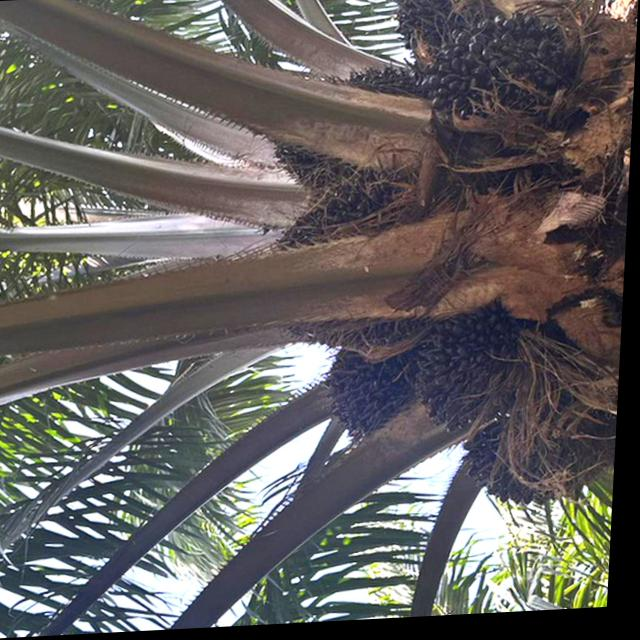unripe: (252, 190, 451, 368), (419, 20, 587, 175), (261, 63, 427, 197), (412, 321, 544, 438), (309, 348, 422, 462), (459, 420, 567, 518), (379, 0, 494, 64)
